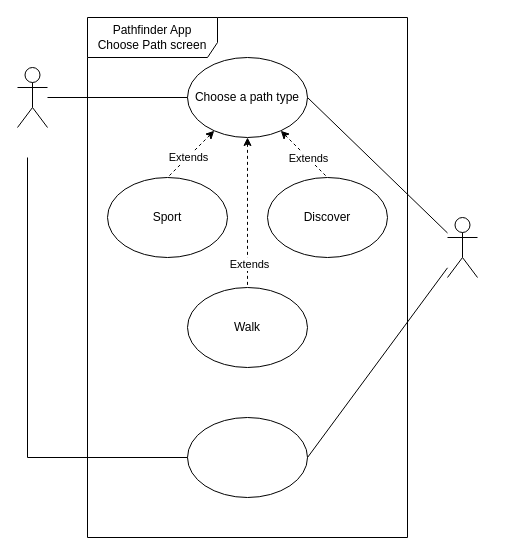
Image size: 509x555. Some labels were removed from this diagram. The shapes that lost their labels are listed below. From the top down, each one's centre as x and y in pixels, then its label:
At pixel 32 97: "User".
At pixel 462 247: "Application".
At pixel 247 457: "Open Menu".
